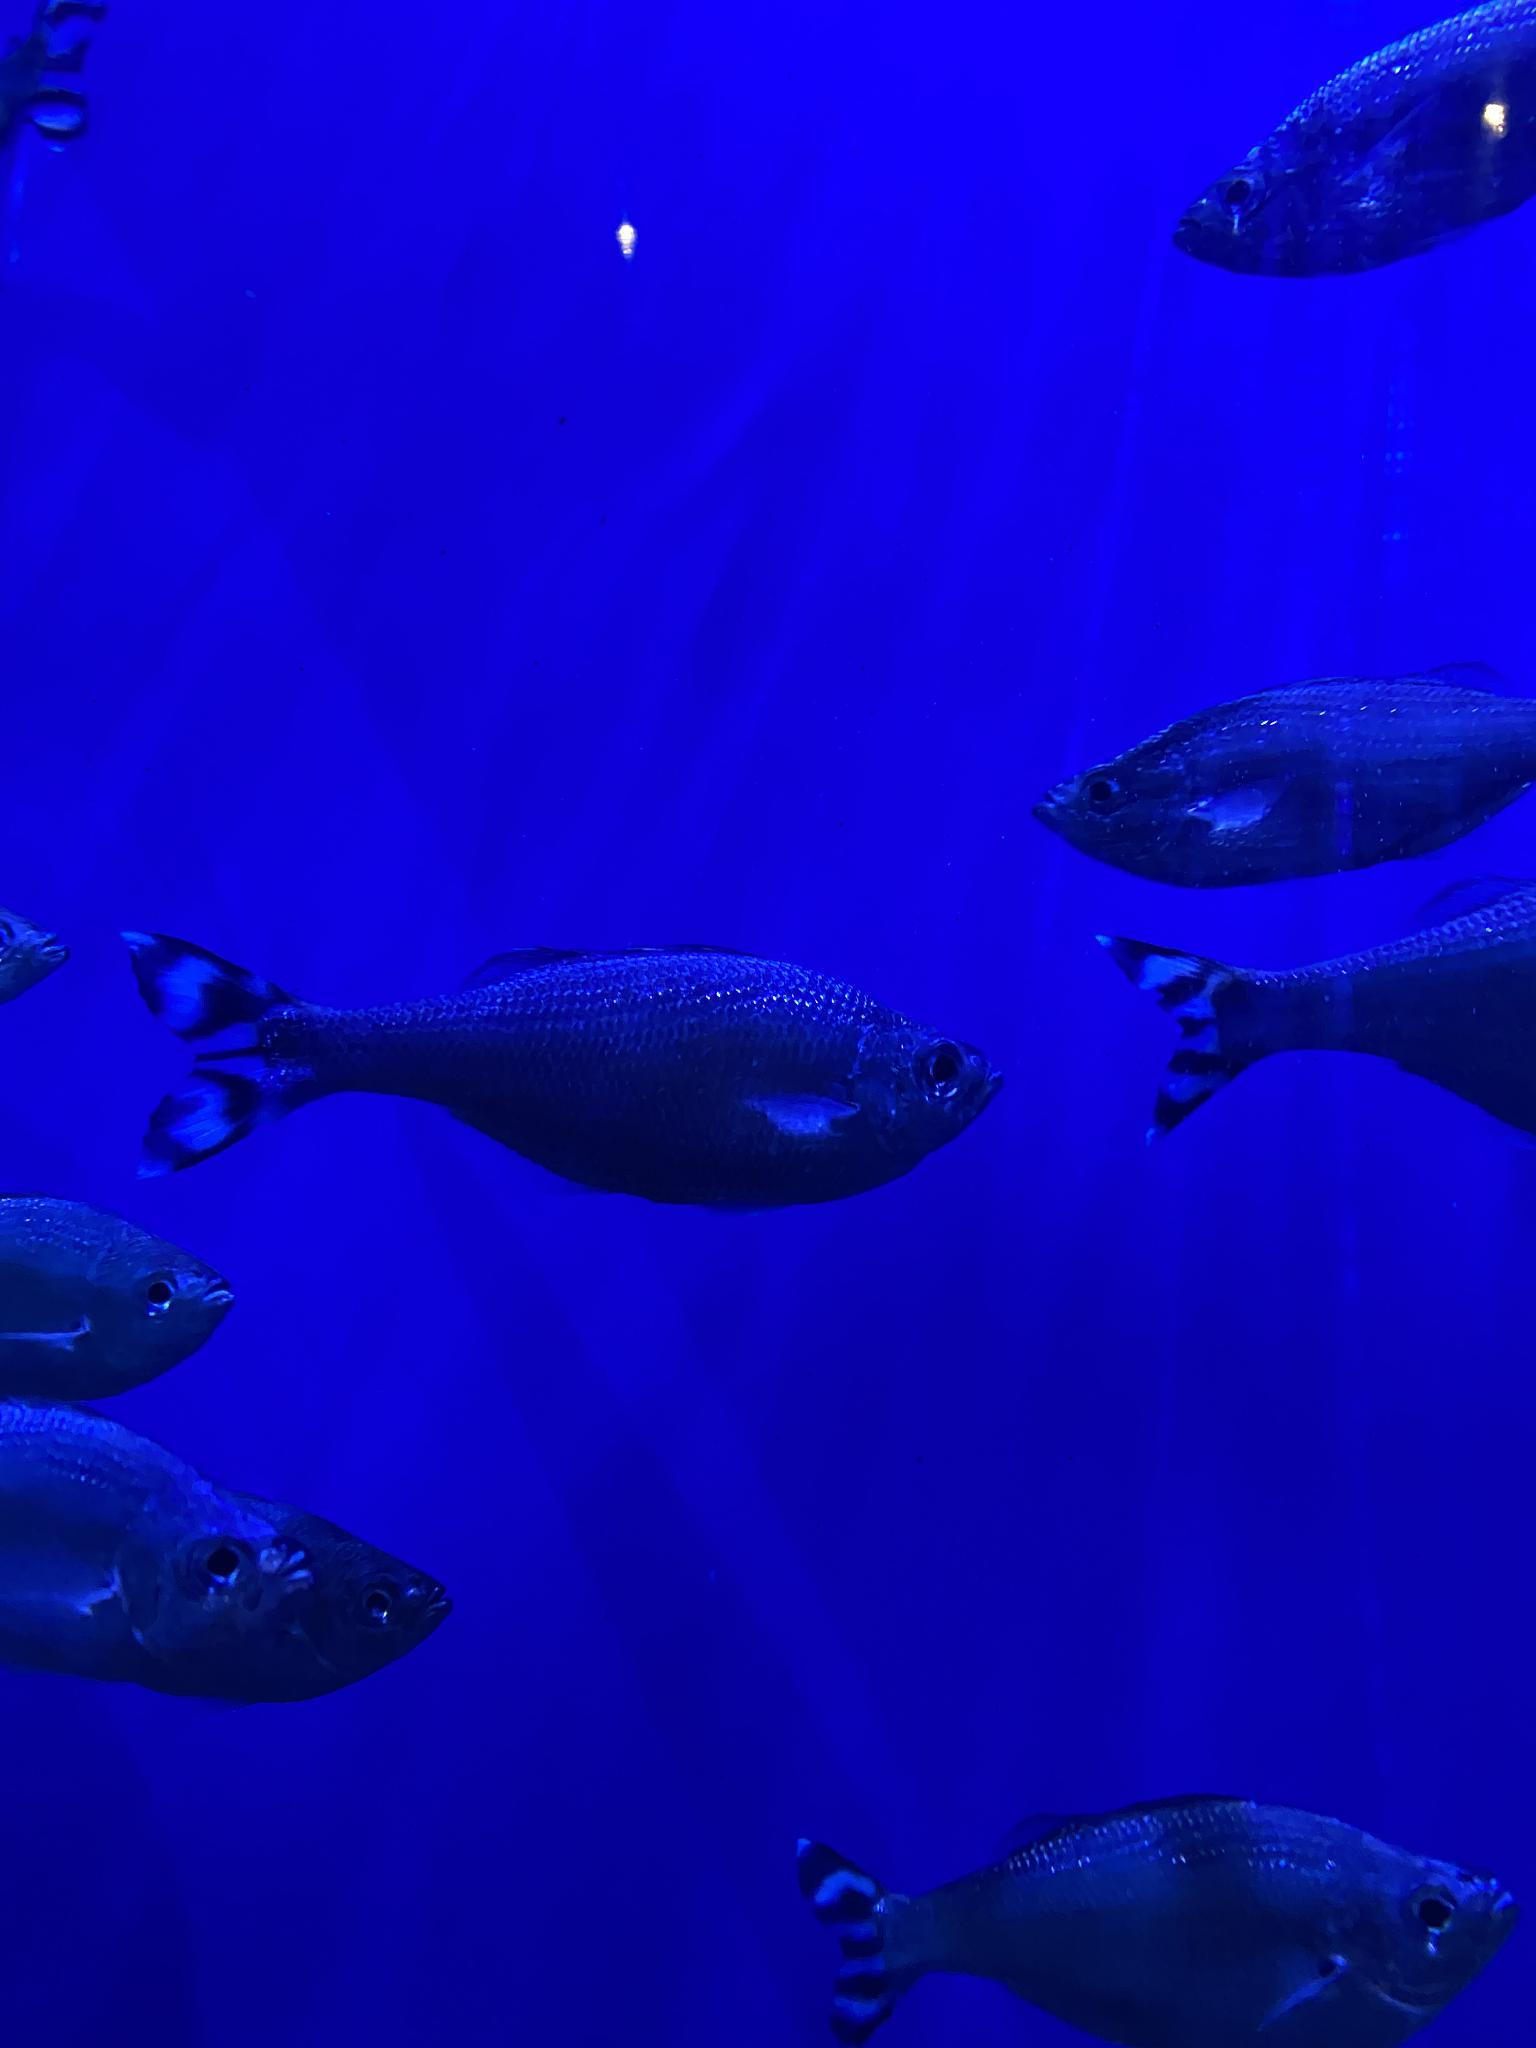fish: (116, 914, 1008, 1214), (789, 1792, 1534, 2048), (0, 1401, 461, 1708), (1033, 648, 1536, 895), (1162, 2, 1536, 284), (1091, 905, 1536, 1142), (0, 1187, 248, 1414), (0, 0, 115, 198)
